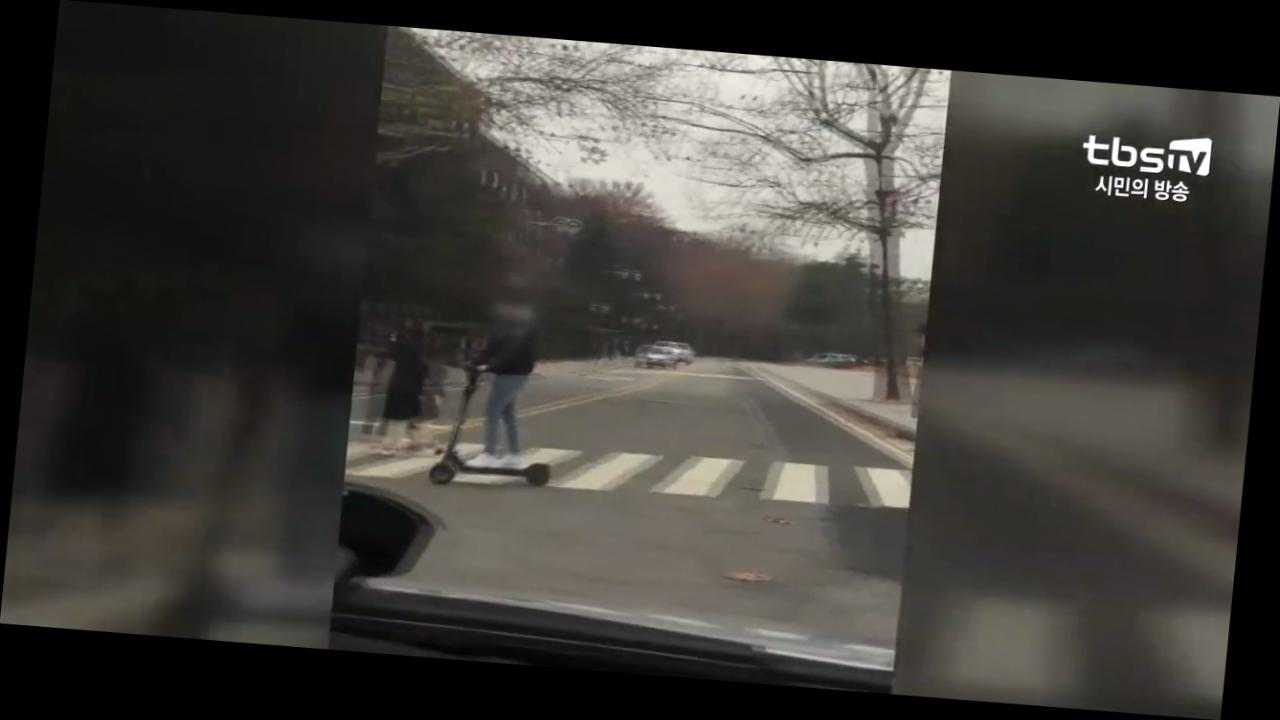nonhelmet: (426, 282, 574, 499)
